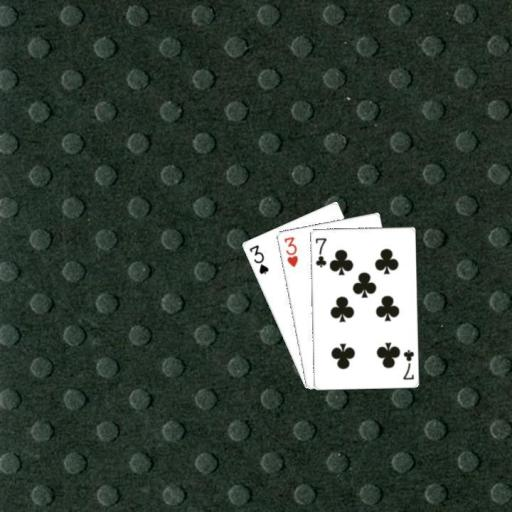3H: (281, 233, 299, 268)
3S: (246, 242, 270, 275)
7C: (312, 234, 328, 268), (400, 346, 415, 381)
